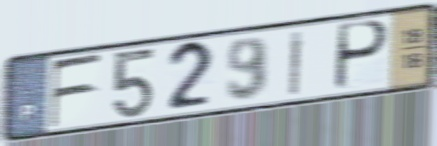2: (162, 38, 220, 118)
5: (110, 47, 157, 121)
9: (225, 35, 271, 104)
F: (48, 51, 105, 131)
I: (287, 28, 306, 98)
P: (331, 18, 392, 93)
